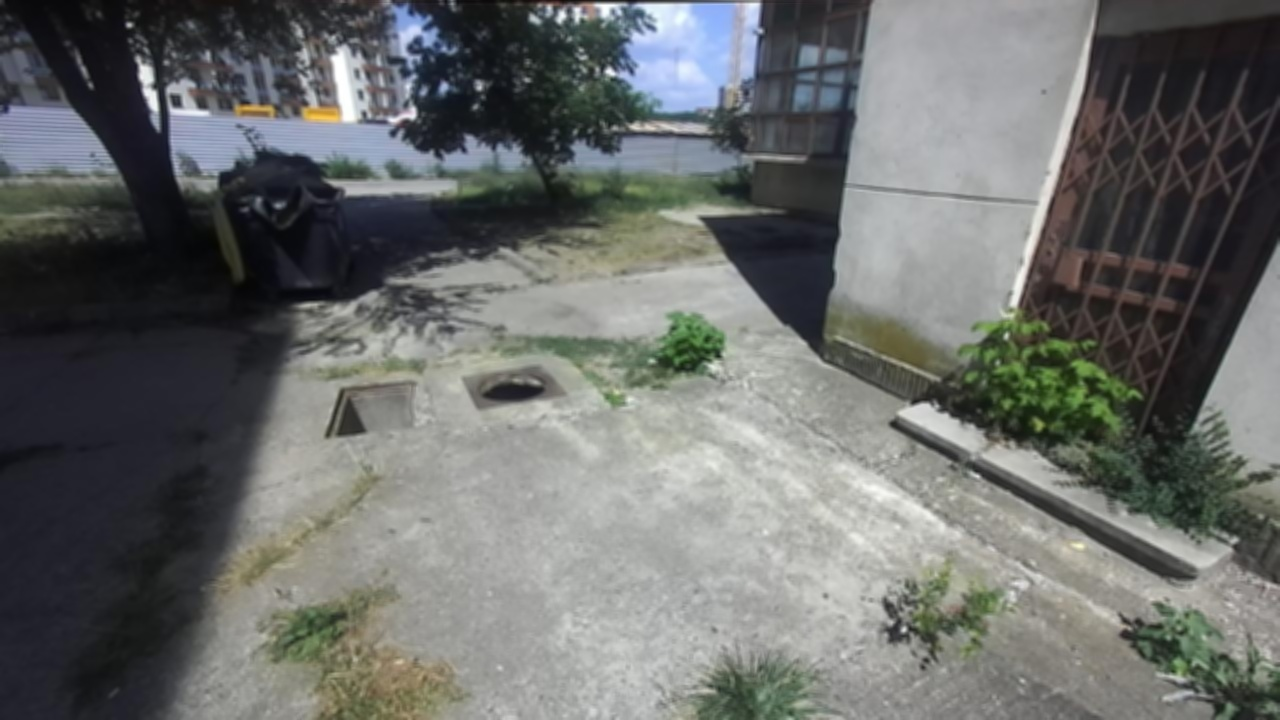drain: (318, 378, 418, 440), (473, 369, 557, 403)
